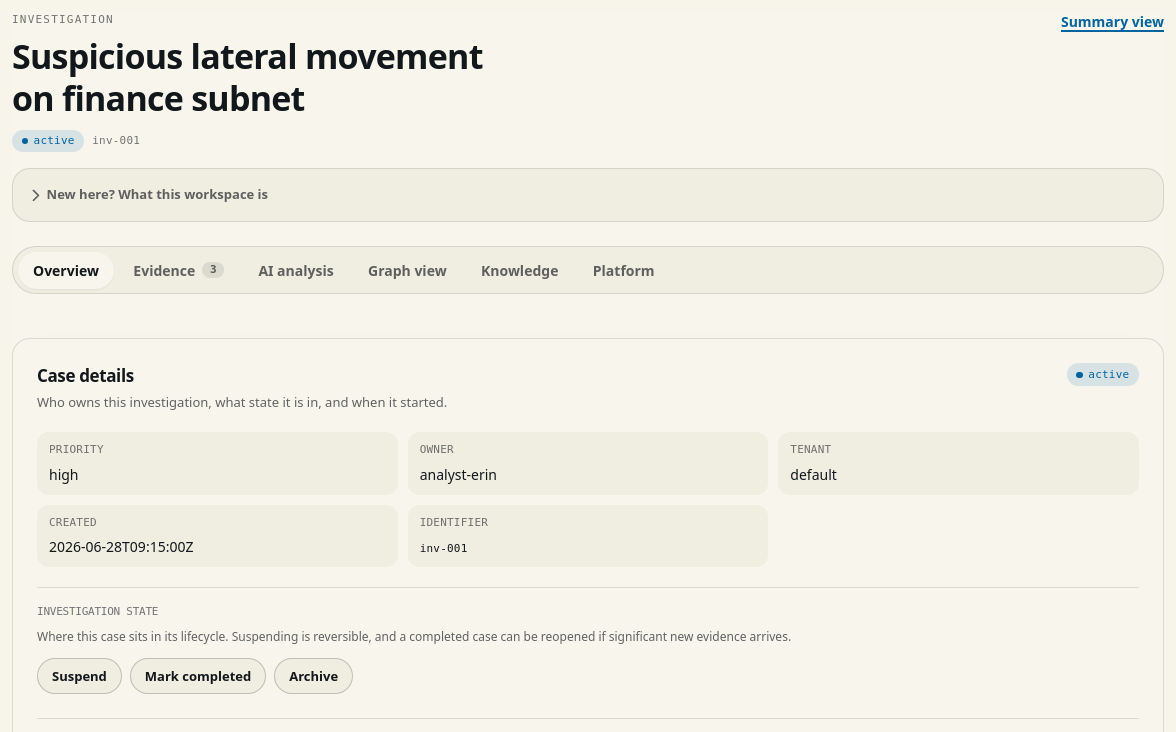
Test: InvestigationWorkspacePage › renders the workspace regions
The image size is (1176, 732).
expect the heading "Suspicious lateral movement on finance subnet" is shown: met, box [12,32,483,121]
Click the tab "AI analysis".
click(296, 270)  # box [243,252,349,289]
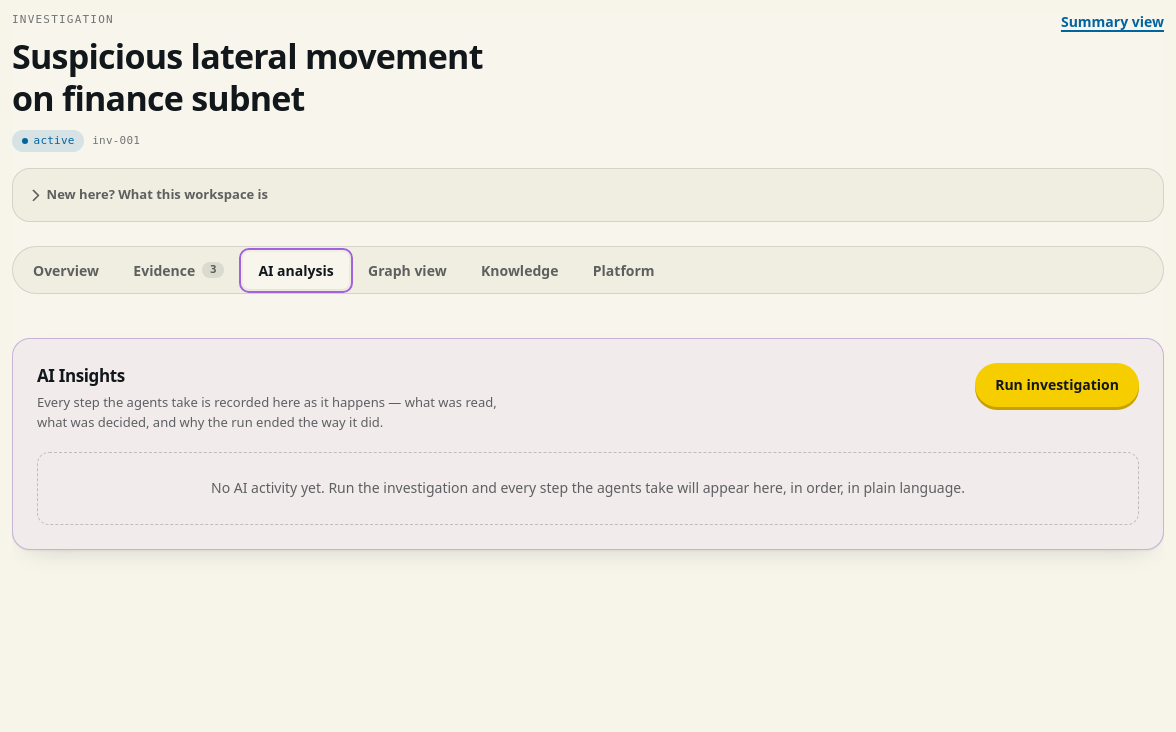
expect the button "Run investigation" is shown: met, box [975,364,1139,408]
